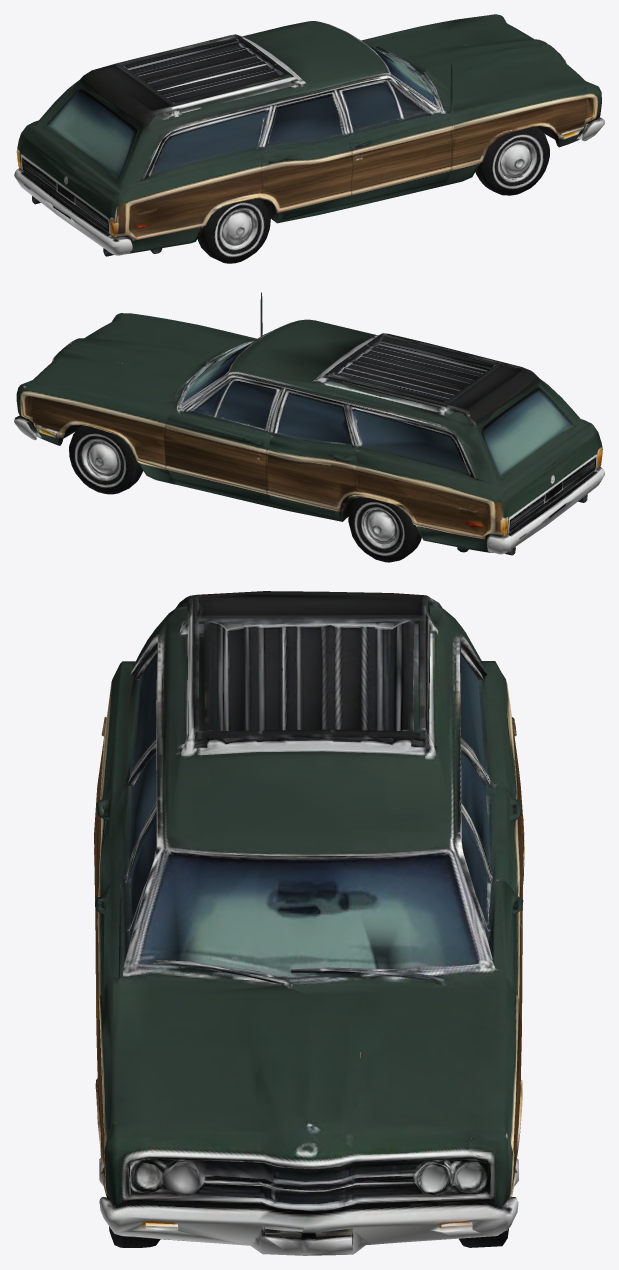
Rendered from wagon_brown.glb.
3 views of the same model, one above another, from view 1: azimuth 30°, elevation 25°; view 2: azimuth 150°, elevation 25°; view 3: azimuth 270°, elevation 25° (orthographic). The views are drawn at different scales.
Visible parts, largest first — view 1: node_0; view 2: node_0; view 3: node_0.
Part boxes in pixels (box(x1,y1,x2,y2)): node_0: box(14, 14, 604, 263); node_0: box(14, 292, 604, 562); node_0: box(94, 591, 524, 1255).
Bounding box in the file's own units: 1.14 × 0.3372 × 0.4223.
Materials: 1 (1 with a texture image).
